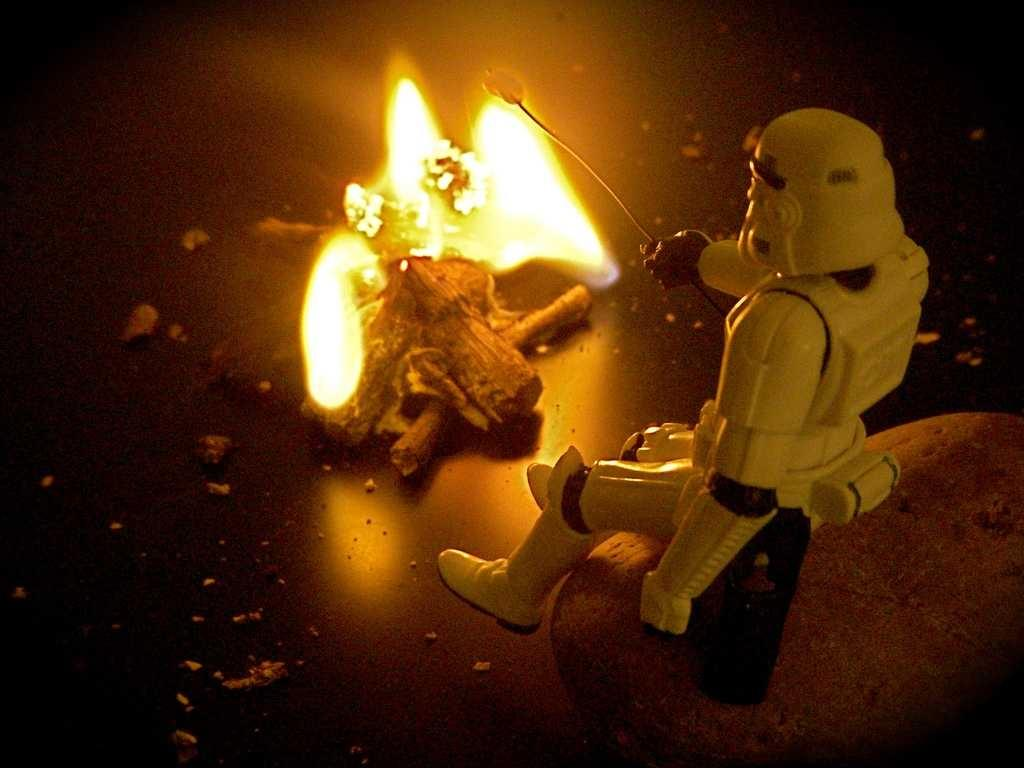fire: (482, 116, 560, 264), (322, 246, 368, 378)
